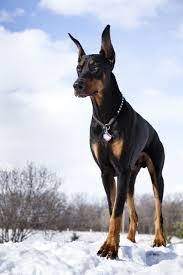Dog: (64, 23, 172, 260)
